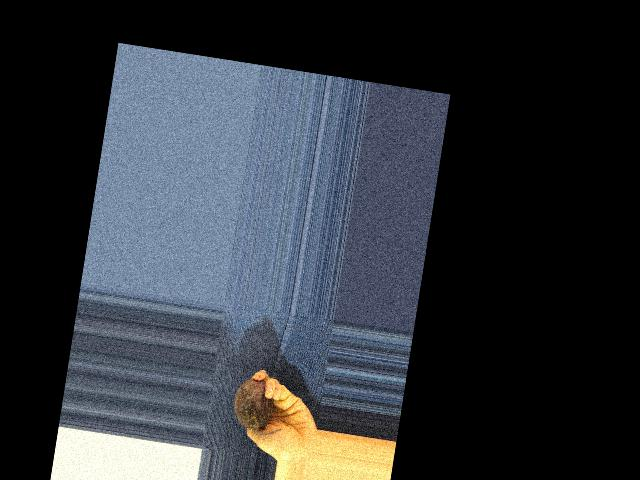beet: (230, 376, 289, 438)
